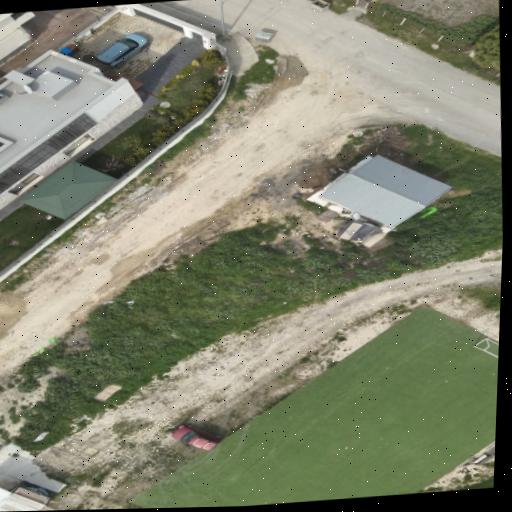car: (96, 33, 147, 65), (171, 425, 221, 449)
